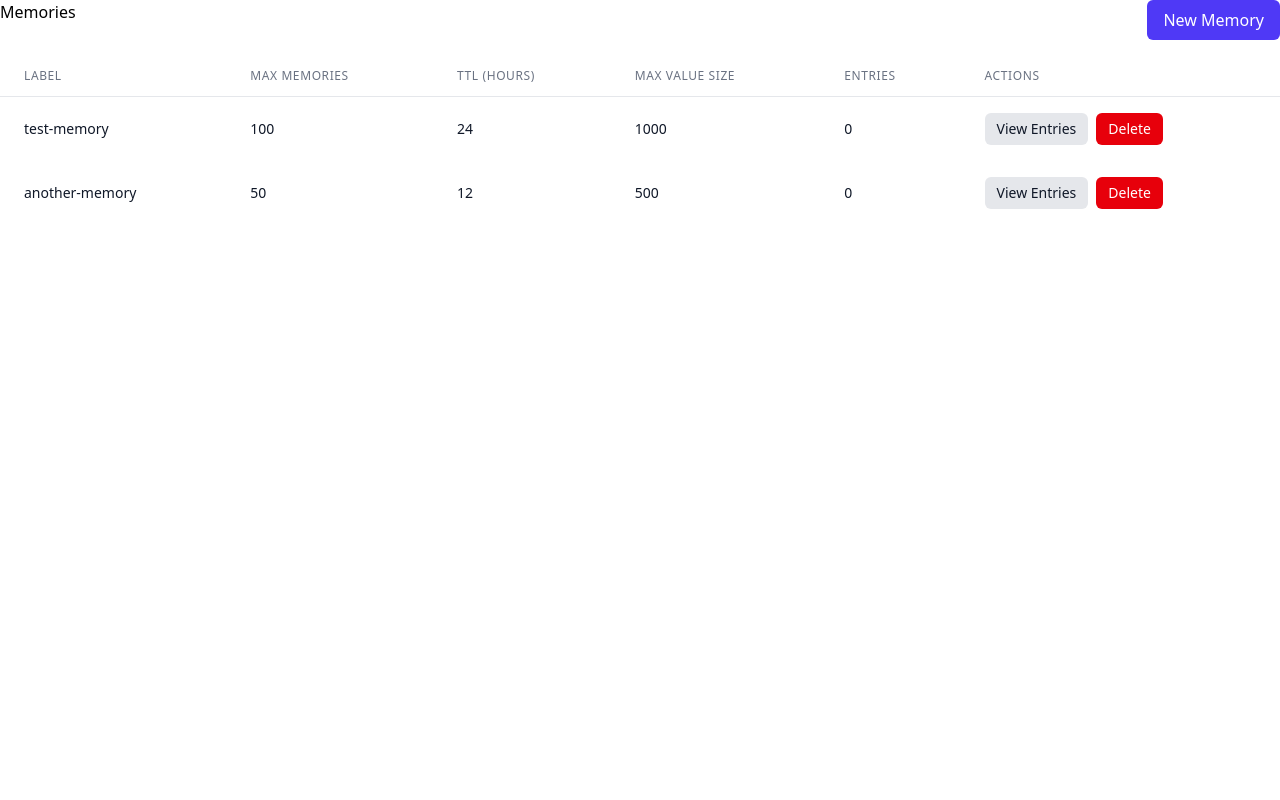
Scenario: MemoriesSection › 'New Memory' button opens create modal
Expected: the text "test-memory" is shown, [0,96,226,161]
Click the button "New Memory" at (1214, 20), box [1148,0,1279,40]
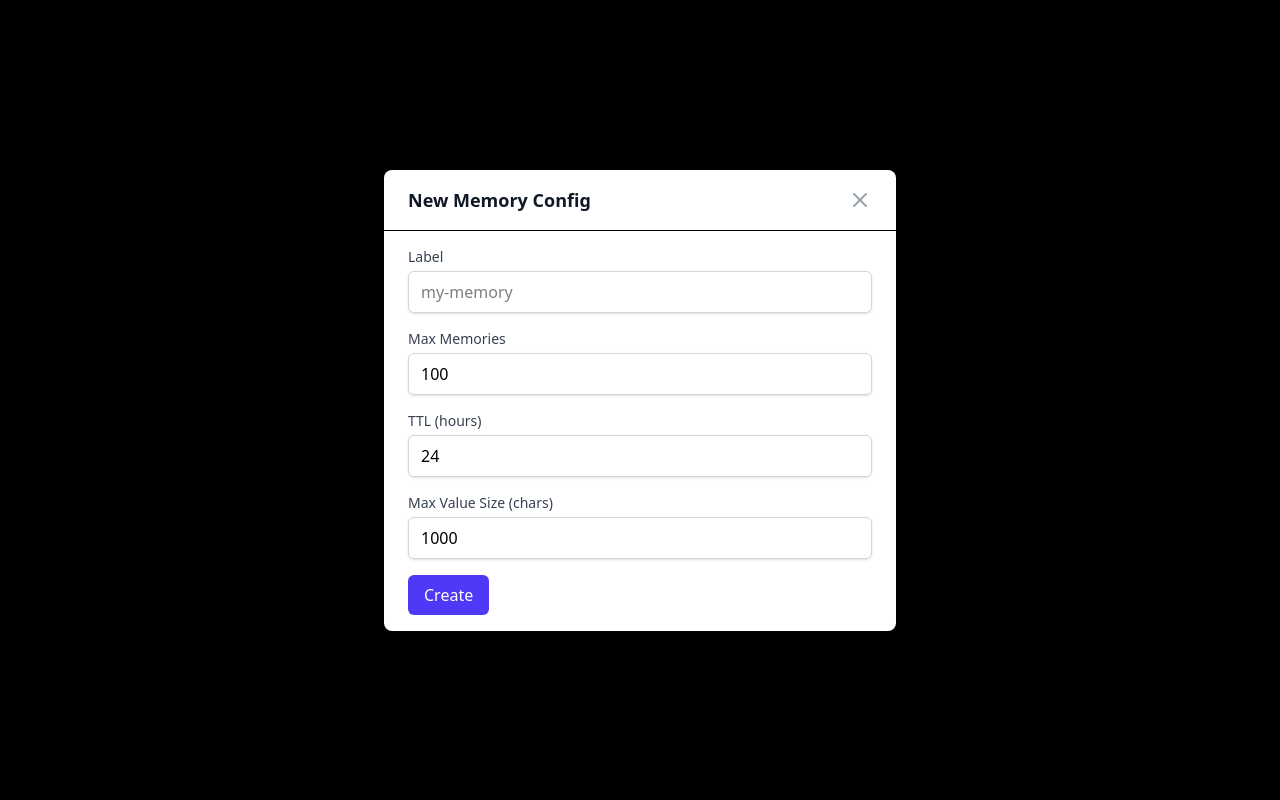
Expected: the dialog shows "New Memory Config", [408,188,591,212]
